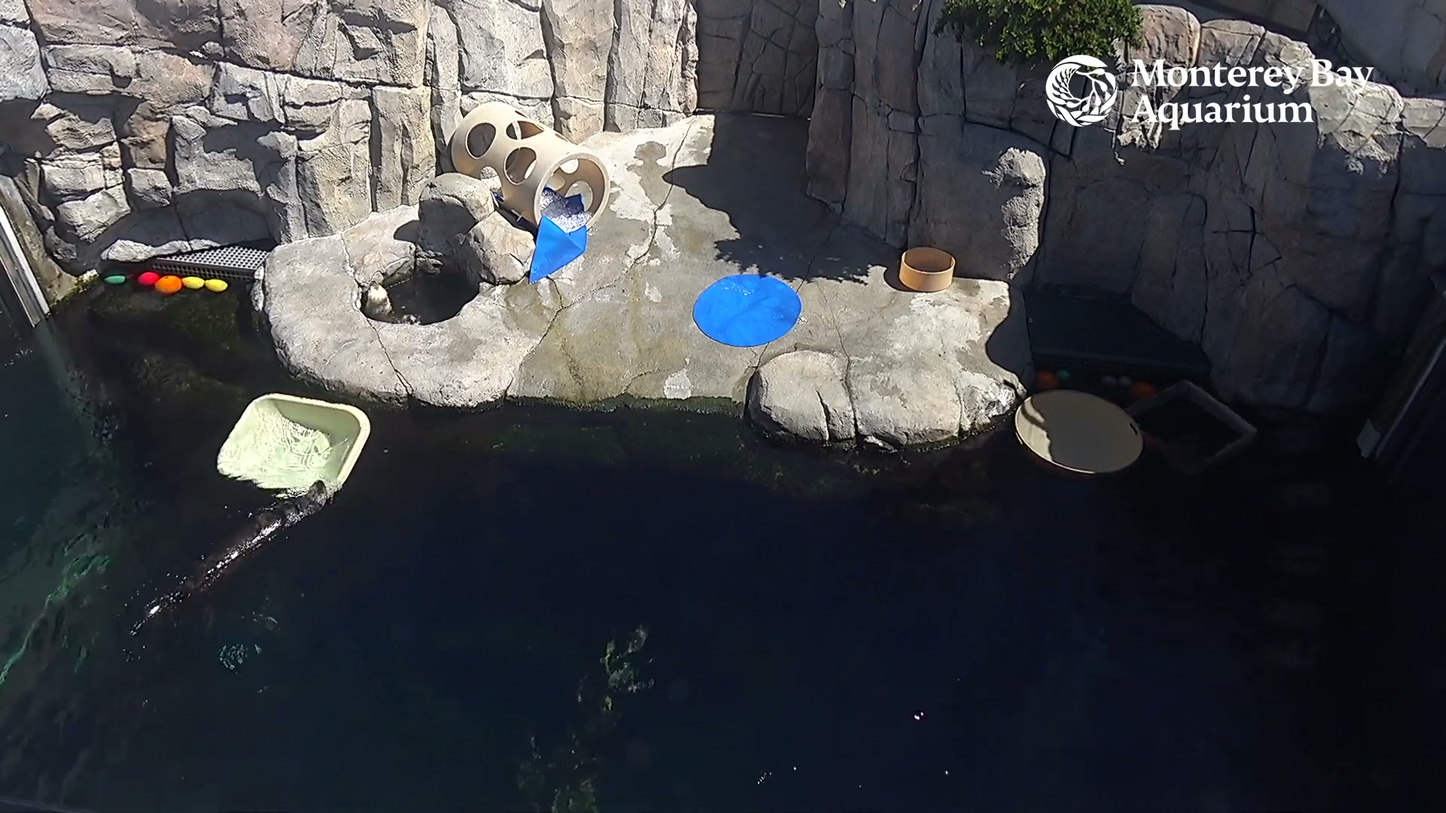Southern Sea Otter: (135, 434, 341, 643), (342, 241, 423, 388)
